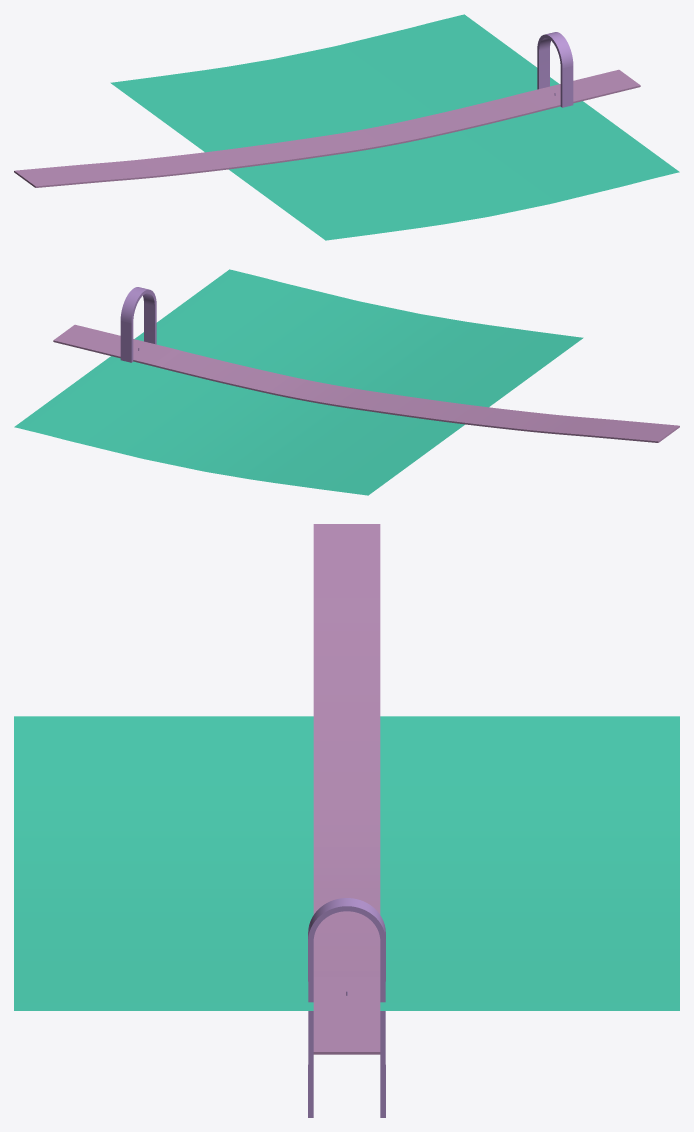
The picture shows the model from 3 angles, top to bottom: view 1: azimuth 30°, elevation 25°; view 2: azimuth 150°, elevation 25°; view 3: azimuth 270°, elevation 25°; orthographic projection. The views are drawn at different scales.
Visible parts, largest first — view 1: ground_gradient, road, arch; view 2: ground_gradient, road, arch; view 3: ground_gradient, road, arch.
Boxes of the visible parts, left/top/right/bottom form: ground_gradient: left=110, top=14, right=679, bottom=240; road: left=14, top=69, right=640, bottom=187; arch: left=537, top=32, right=573, bottom=107; ground_gradient: left=14, top=269, right=583, bottom=495; road: left=53, top=324, right=679, bottom=442; arch: left=120, top=287, right=156, bottom=362; ground_gradient: left=14, top=716, right=679, bottom=1010; road: left=313, top=524, right=380, bottom=1054; arch: left=308, top=898, right=385, bottom=1117.
Size of the model in its own units: 324 by 70.19 by 200.
